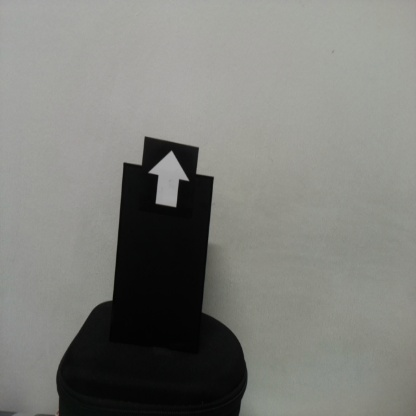id_1: (145, 140, 196, 223)
